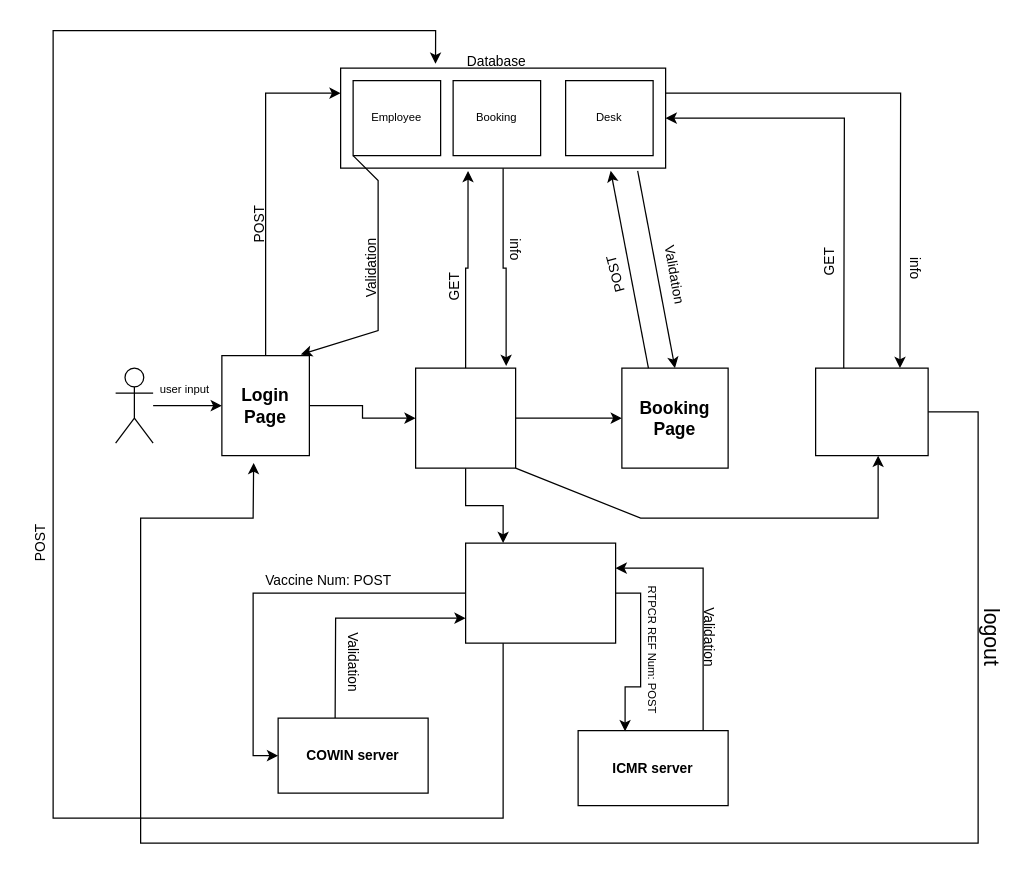
This 1030x875 diagram has some shape labels left out. The centre of each missing label's shape, as x and y in pixels:
"Home Page" belongs at (x=465, y=417).
"Profile Page" belongs at (x=540, y=592).
"Status Page" belongs at (x=871, y=411).
"User" belongs at (x=133, y=405).
